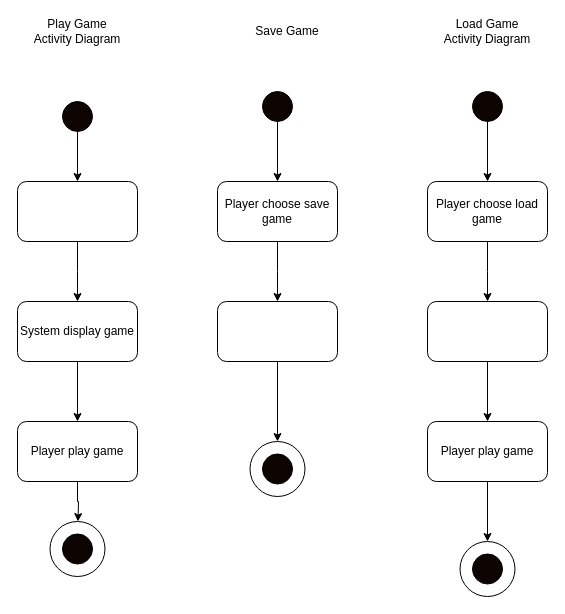
The diagram is 565 pixels wide and 614 high, and some of its shapes have lost their labels. The shapes that lost their labels are listed below. From the top down, each one's box as (x1, y1, x2, y2) in pixels, then its label:
(16, 180, 138, 242): Player choose play game(new)
(216, 300, 338, 362): System save the moment game
(426, 300, 548, 362): System display game with data in database
